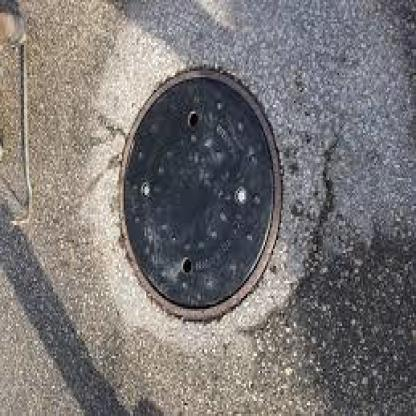manholes: (104, 56, 302, 339)
